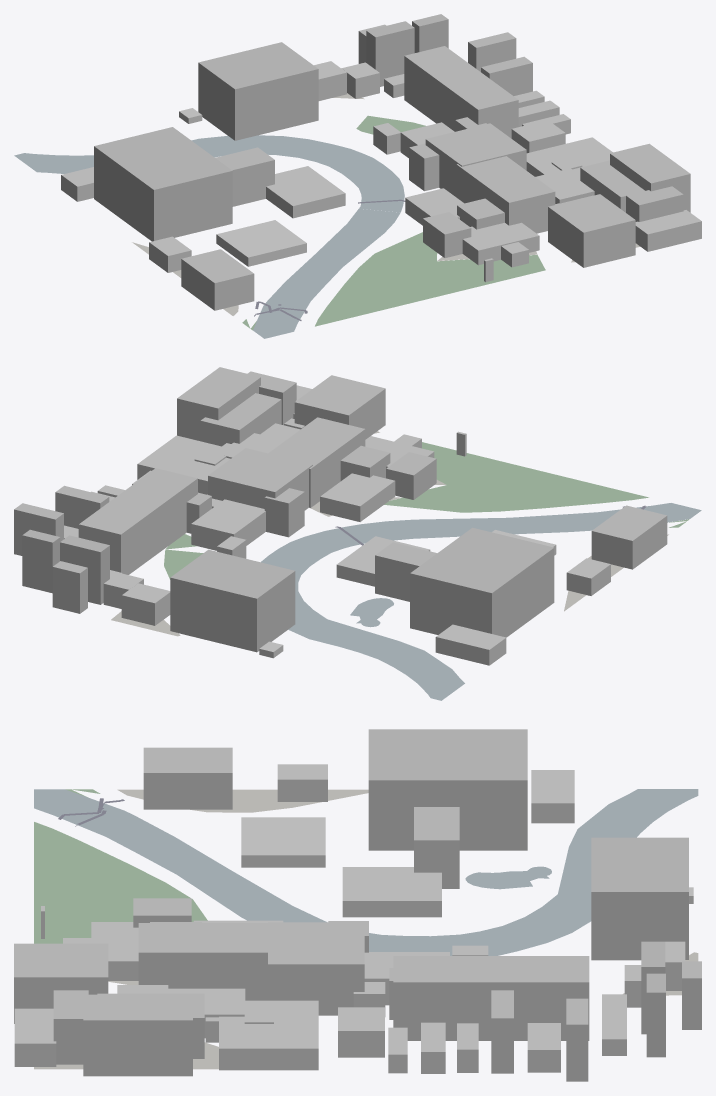
File: 125_102_mid.glb
3 renders of one model, top to bottom at view 1: azimuth 30°, elevation 25°; view 2: azimuth 150°, elevation 25°; view 3: azimuth 270°, elevation 25°, orthographic. The views are drawn at different scales.
Size of the model in its own units: 531 by 58.46 by 518.
